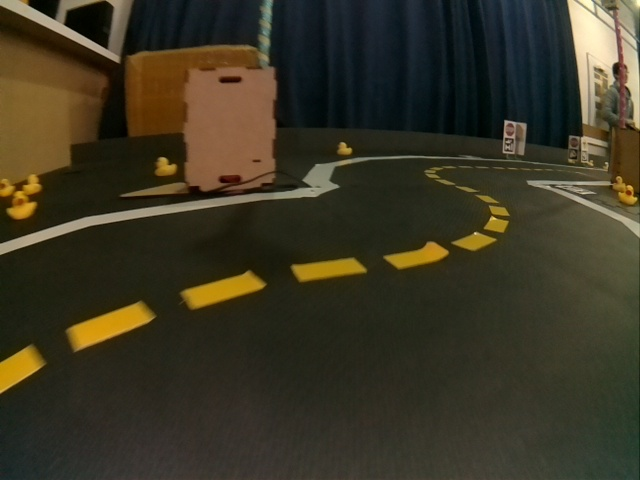Duckie: (7, 192, 36, 218), (22, 174, 43, 194), (156, 157, 177, 176), (336, 143, 351, 158), (620, 187, 634, 203), (3, 179, 12, 196), (612, 175, 622, 190), (602, 161, 611, 171), (589, 160, 595, 169)
QR code: (557, 186, 592, 196), (504, 138, 514, 153), (569, 151, 577, 161)
Stop sign: (569, 138, 578, 148), (506, 123, 513, 134)
